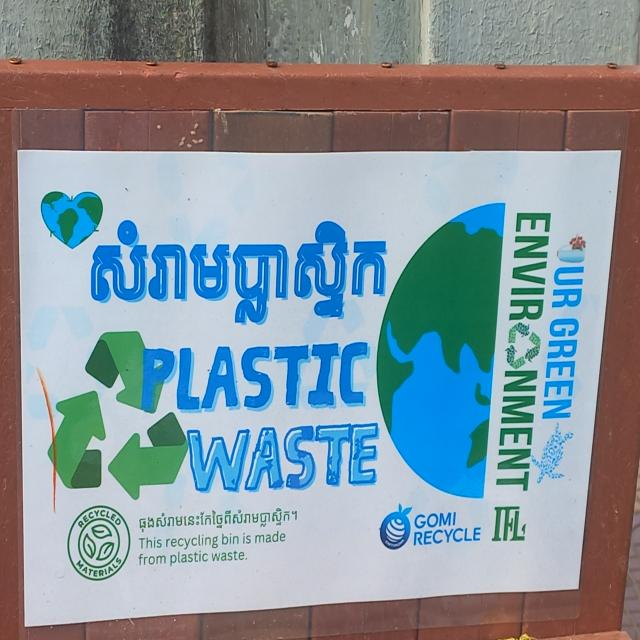Yolov11kh: (80, 205, 392, 327), (135, 507, 302, 535)
